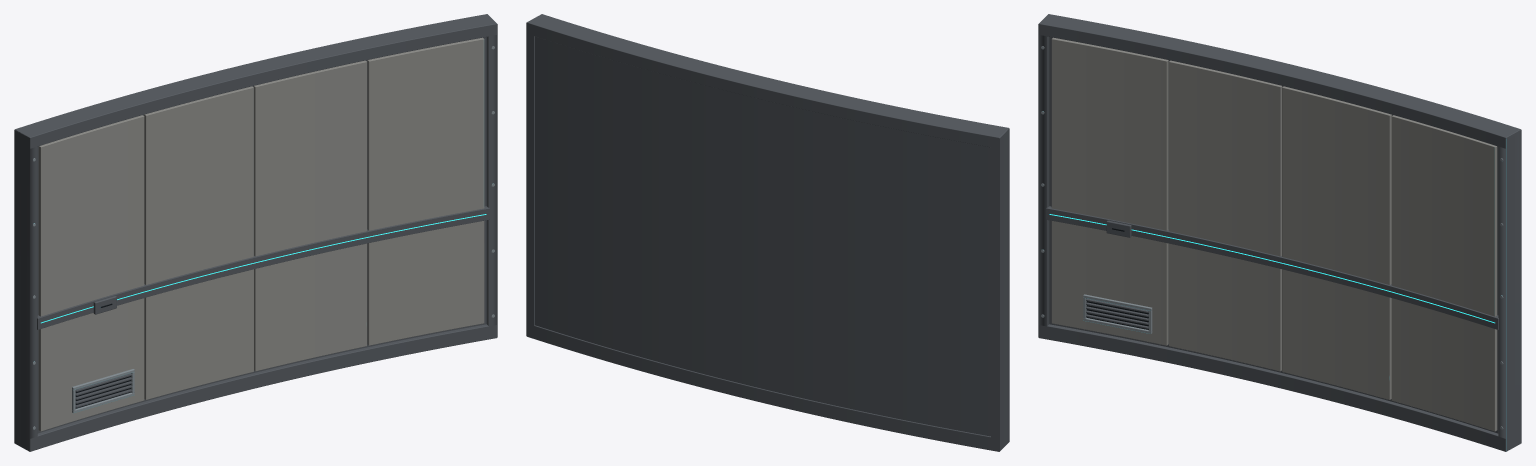
3 views of the same model, side by side, from view 1: azimuth 30°, elevation 25°; view 2: azimuth 150°, elevation 25°; view 3: azimuth 330°, elevation 25° (orthographic).
Parts seen in each view (by area): view 1: W1_EXPORT_MESH; view 2: W1_EXPORT_MESH; view 3: W1_EXPORT_MESH.
Boxes of the visible parts, bbox=[...] form: W1_EXPORT_MESH: bbox=[14, 14, 497, 451]; W1_EXPORT_MESH: bbox=[526, 14, 1009, 451]; W1_EXPORT_MESH: bbox=[1038, 14, 1521, 451].
Bounding box in the file's own units: 4.73 × 3 × 0.3781.
1 material, 1 textured.
